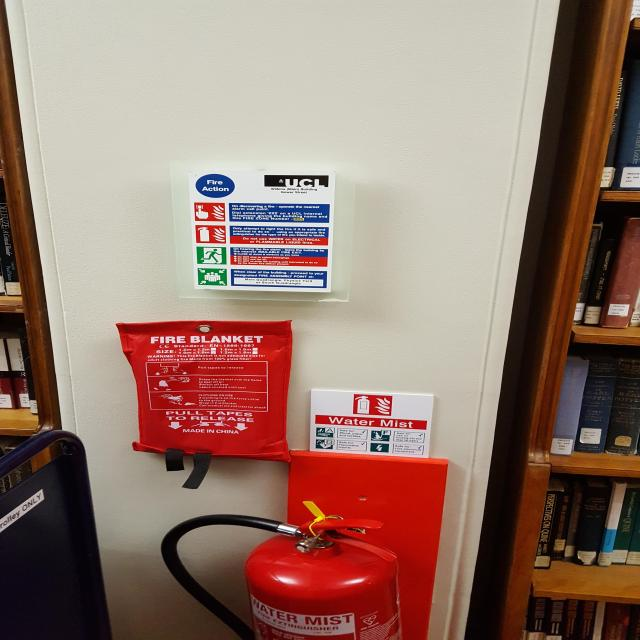fire_extinguisher: (152, 494, 410, 640)
